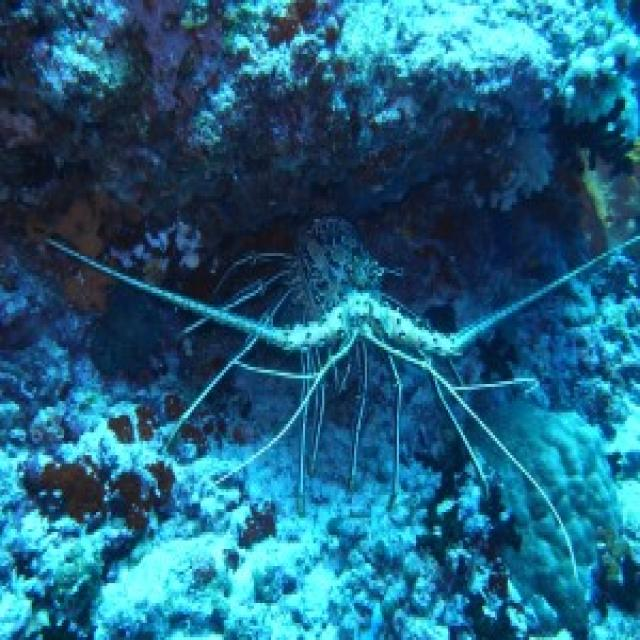lobsters: (126, 175, 538, 535)
